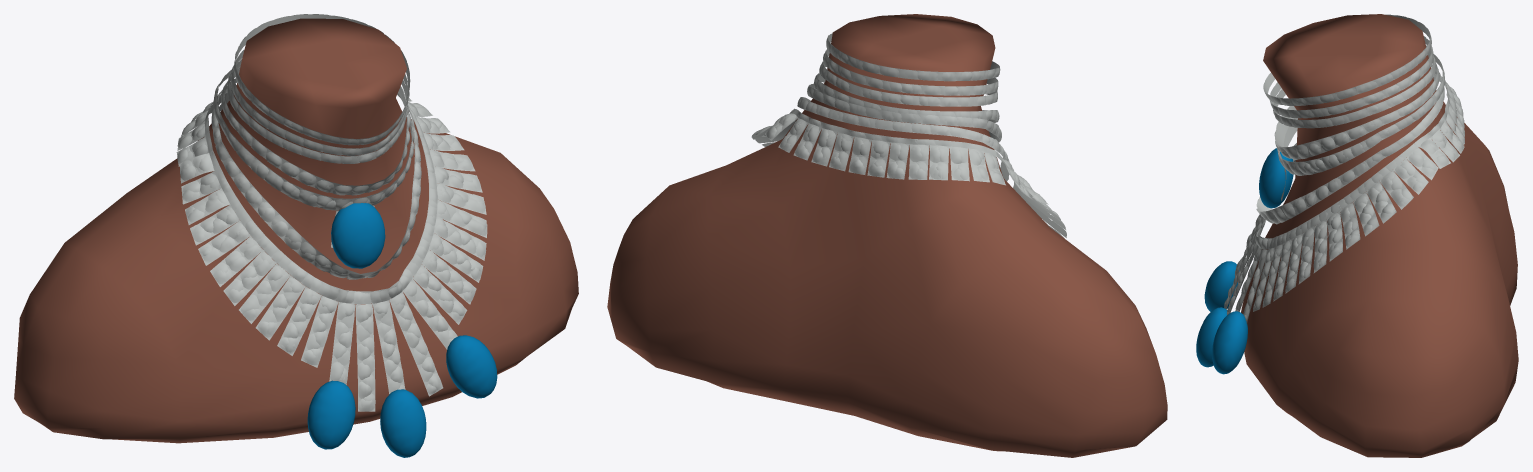
3 renders of one model, left to right at view 1: azimuth 30°, elevation 25°; view 2: azimuth 150°, elevation 25°; view 3: azimuth 270°, elevation 25°, orthographic. The views are drawn at different scales.
Parts seen in each view (by area): view 1: Obj_Avatar_Shape (×3); view 2: Obj_Avatar_Shape (×2); view 3: Obj_Avatar_Shape (×3).
Boxes of the visible parts, <box> form: Obj_Avatar_Shape (×3): <box>14,14,578,457</box>; Obj_Avatar_Shape (×2): <box>607,14,1167,457</box>; Obj_Avatar_Shape (×3): <box>1196,14,1518,457</box>.
Bounding box in the file's own units: 833 × 517 × 464.
